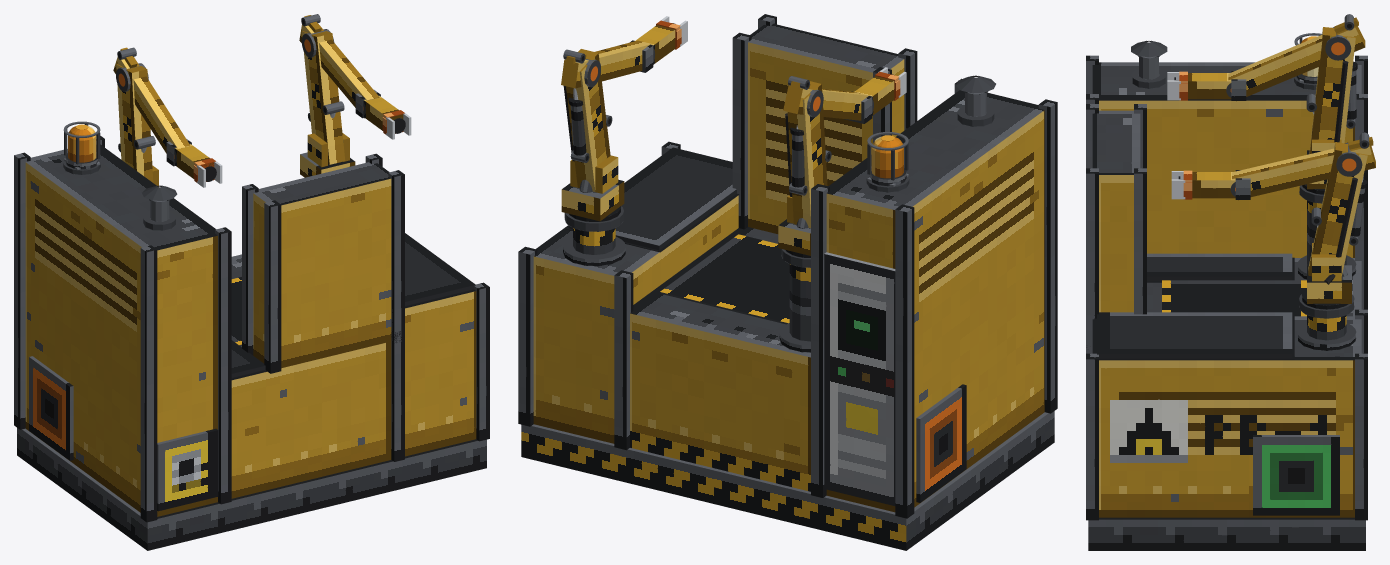
Rendered from prebuilder.glb.
3 views of the same model, side by side, from view 1: azimuth 30°, elevation 25°; view 2: azimuth 150°, elevation 25°; view 3: azimuth 270°, elevation 25° (orthographic). The views are drawn at different scales.
Visible parts, largest first — view 1: body, arm_a_upper, tray_left, arm_b_fore, arm_b_upper, arm_a_fore, arm_a_turret, tray_right, body_glow, arm_a_stage_0, arm_b_stage_0; view 2: body, tray_left, arm_b_upper, arm_a_upper, arm_a_turret, arm_a_fore, arm_b_fore, arm_b_turret, body_glow, arm_b_stage_0, arm_a_stage_0, arm_b_fore_barrel (+1 smaller); view 3: body, tray_left, tray_right, arm_a_fore, arm_b_fore, arm_a_upper, arm_b_upper, arm_a_turret, arm_a_stage_0, arm_b_stage_0, arm_b_turret, arm_a_fore_barrel (+1 smaller).
Part boxes in pixels (<box>): body: <box>14,121,489,550</box>; arm_a_upper: <box>301,31,345,164</box>; tray_left: <box>405,233,475,305</box>; arm_b_fore: <box>113,47,190,163</box>; arm_b_upper: <box>116,64,155,182</box>; arm_a_fore: <box>299,14,379,118</box>; arm_a_turret: <box>300,133,355,177</box>; tray_right: <box>231,340,265,377</box>; body_glow: <box>68,126,93,162</box>; arm_a_stage_0: <box>363,96,403,130</box>; arm_b_stage_0: <box>174,144,214,178</box>; body: <box>518,14,1057,550</box>; tray_left: <box>568,147,736,250</box>; arm_b_upper: <box>785,81,831,228</box>; arm_a_upper: <box>563,49,612,191</box>; arm_a_turret: <box>561,155,624,221</box>; arm_a_fore: <box>561,40,655,88</box>; arm_b_fore: <box>783,76,873,120</box>; arm_b_turret: <box>778,195,810,255</box>; body_glow: <box>875,137,903,178</box>; arm_b_stage_0: <box>854,76,894,115</box>; arm_a_stage_0: <box>635,25,675,64</box>; arm_b_fore_barrel: <box>790,127,804,187</box>; body: <box>1086,33,1367,550</box>; tray_left: <box>1097,312,1292,358</box>; tray_right: <box>1147,253,1292,280</box>; arm_a_fore: <box>1230,132,1375,200</box>; arm_b_fore: <box>1226,14,1365,101</box>; arm_a_upper: <box>1308,142,1367,276</box>; arm_b_upper: <box>1306,27,1355,153</box>; arm_a_turret: <box>1307,243,1351,303</box>; arm_a_stage_0: <box>1192,172,1235,198</box>; arm_b_stage_0: <box>1188,73,1231,99</box>; arm_b_turret: <box>1307,139,1341,189</box>; arm_a_fore_barrel: <box>1350,179,1367,236</box>.
Bounding box in the file's own units: 3.03 × 3.26 × 2.09.
1 material, 1 textured.
